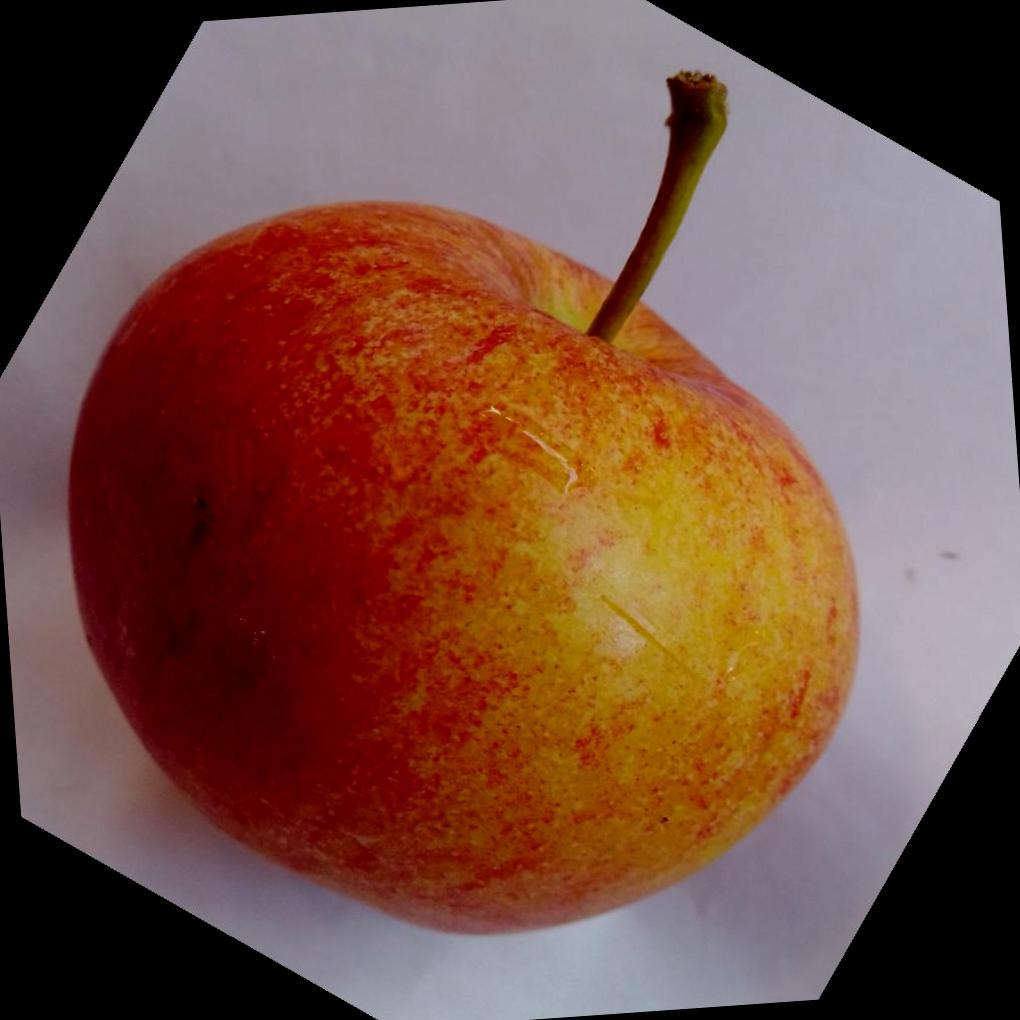FreshGuava: (64, 75, 862, 935)
